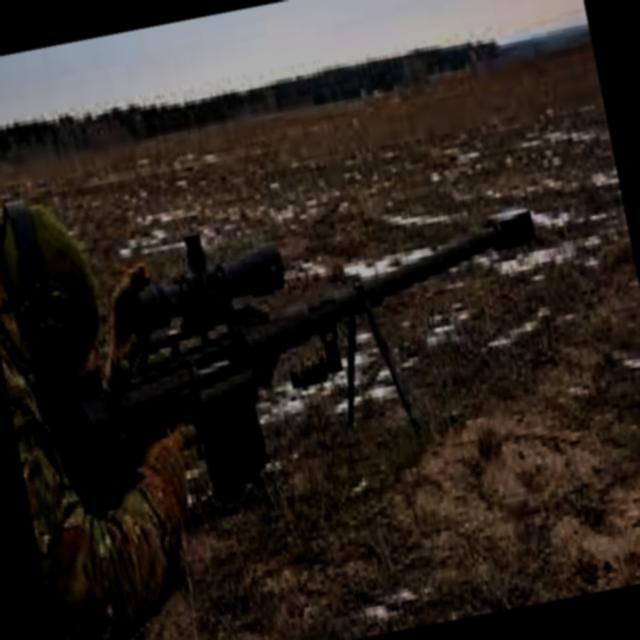rifle: (15, 164, 582, 544)
